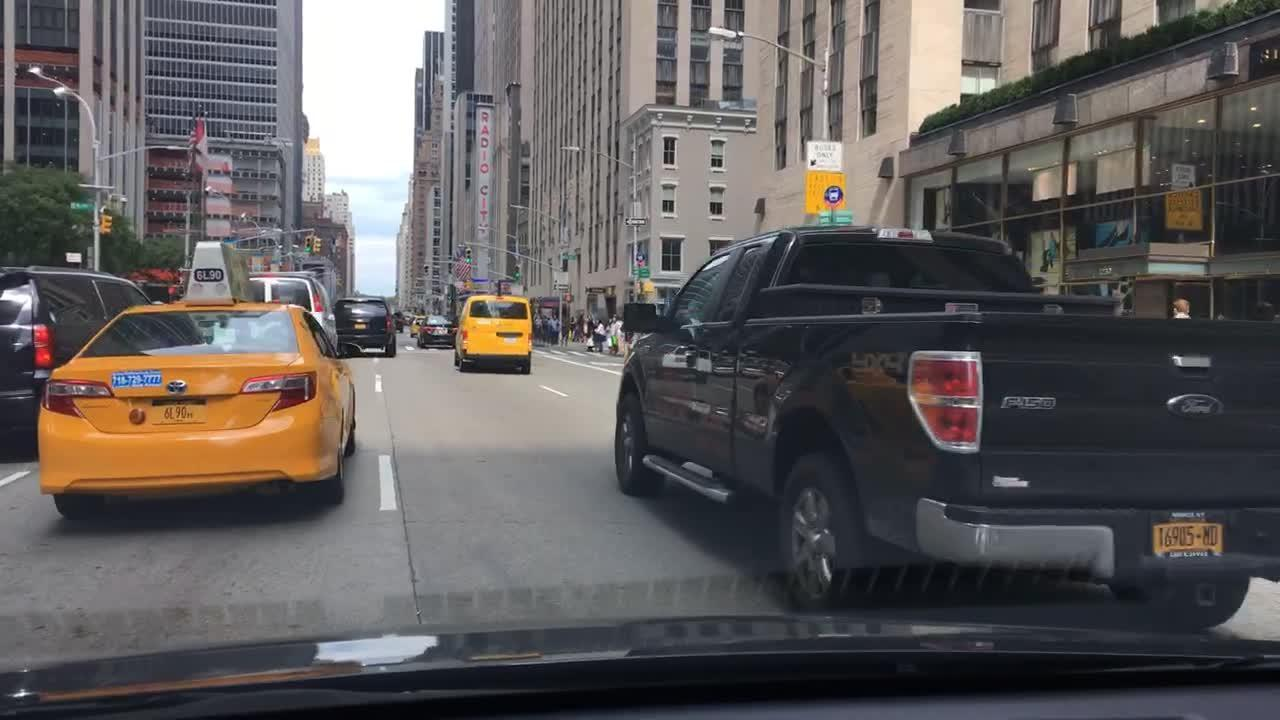Toyota: (163, 378, 194, 397)
ford: (1163, 390, 1226, 430)
